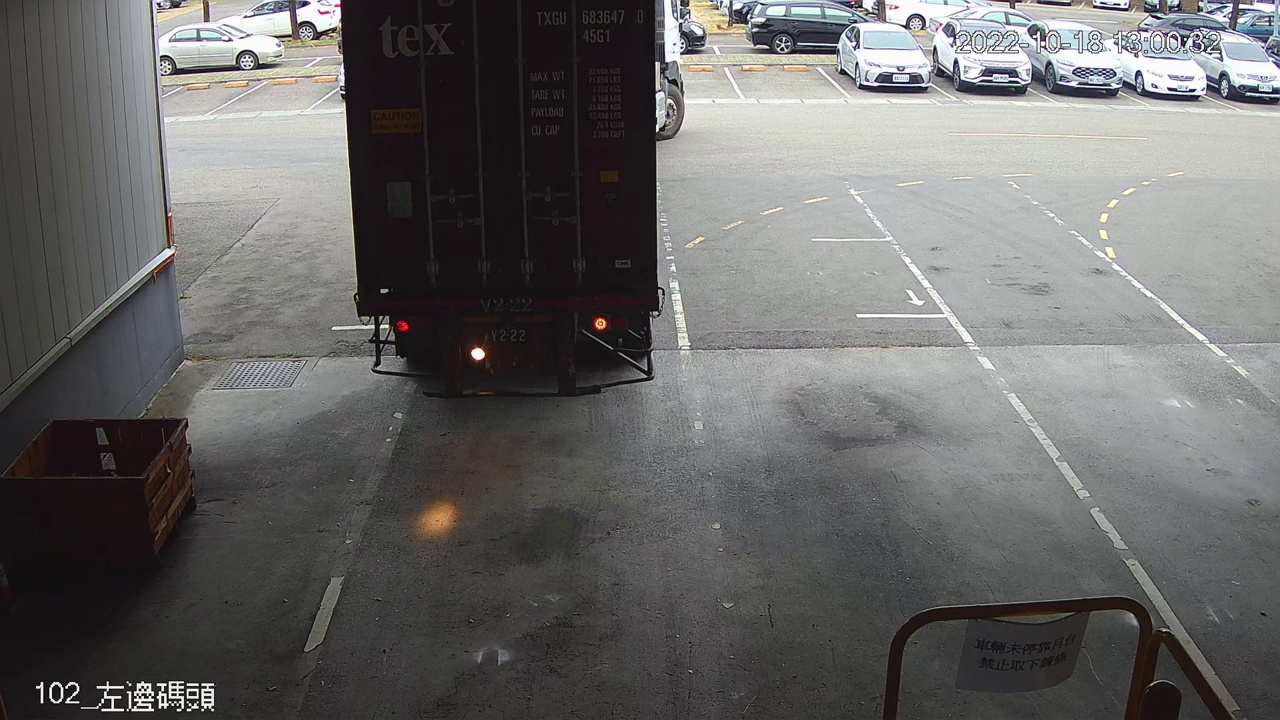container: (529, 5, 648, 49)
